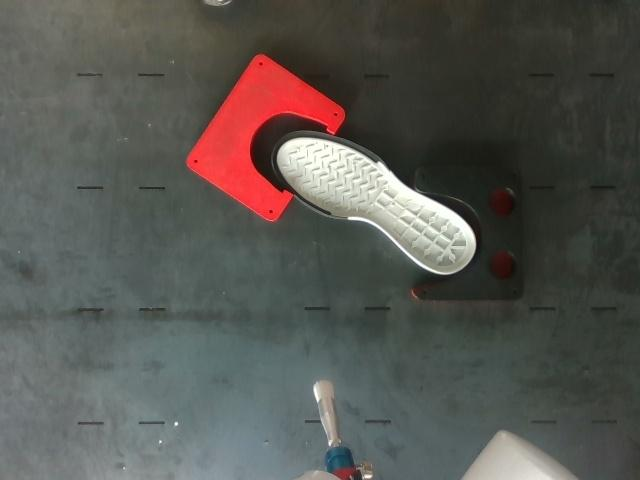shoes: (272, 131, 475, 273)
